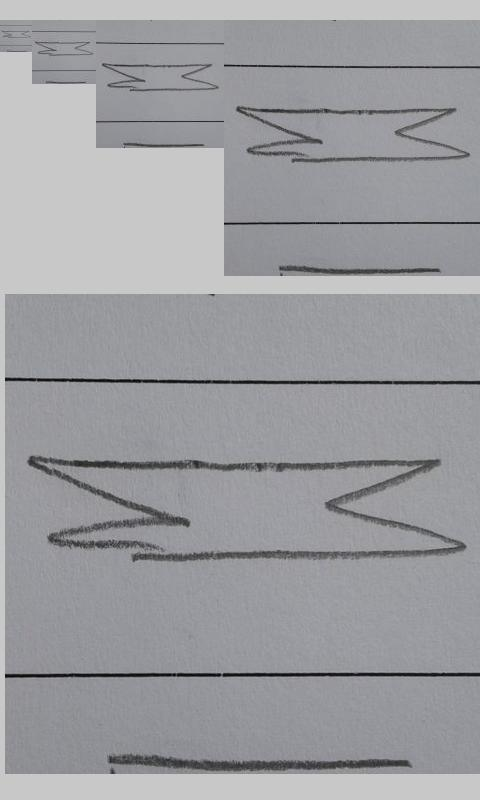edit_text: (26, 452, 472, 563), (235, 105, 470, 164), (102, 63, 219, 92), (35, 41, 93, 56), (1, 30, 31, 39)
